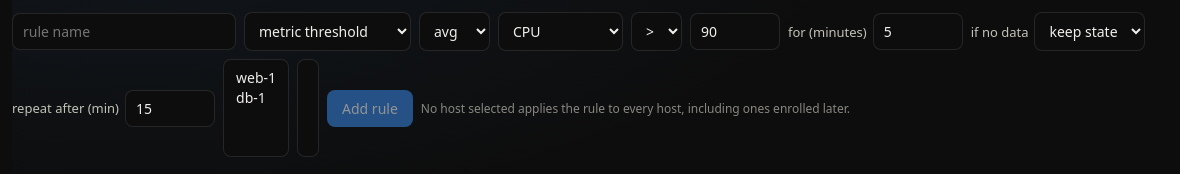
Test: RuleForm › shows the server's reason when a rule is refused
This screenshot has width=1180, height=174.
Type "x" into the field with placeholder "rule name" at (124, 32), box [12, 13, 236, 50]
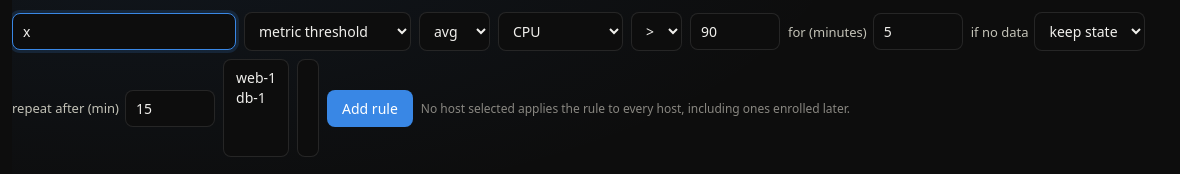
Click the button "Add rule" at (370, 108), box [327, 90, 413, 126]
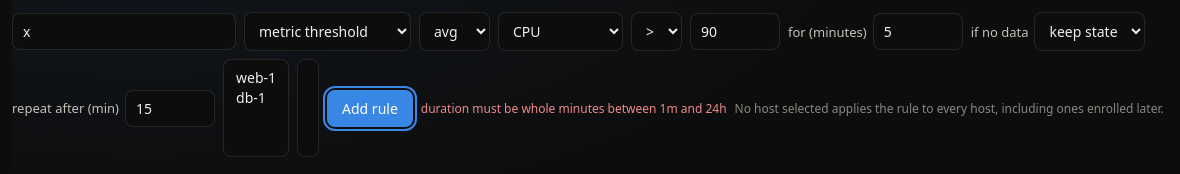
Expected: the text "duration must be whole minutes between 1m and 24h" is shown, [421, 100, 727, 116]
